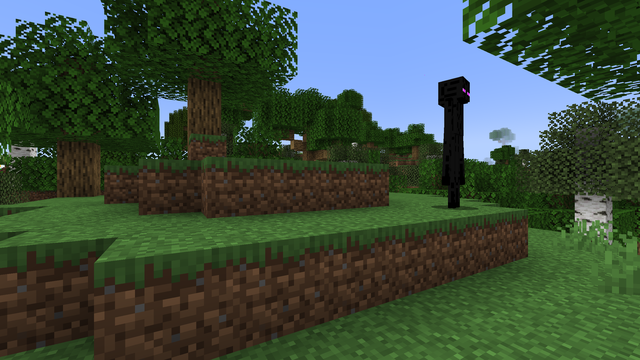endermens: (433, 70, 474, 208)
